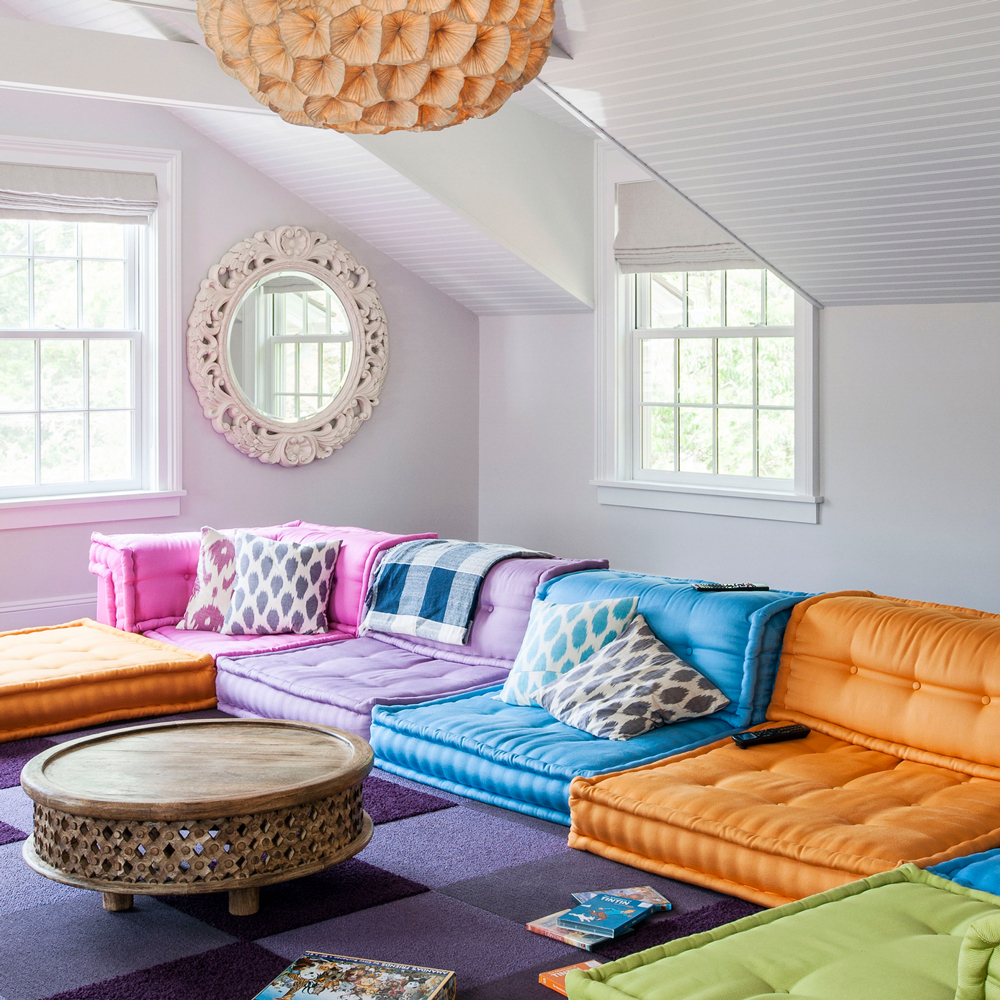biru: (383, 671, 705, 805)
coklat: (25, 724, 374, 890)
hijau: (726, 873, 1000, 1000)
hitam: (731, 721, 812, 748)
orange: (685, 614, 1000, 858), (6, 628, 208, 709)
pink: (101, 523, 362, 657)
ungu: (248, 617, 455, 724)
